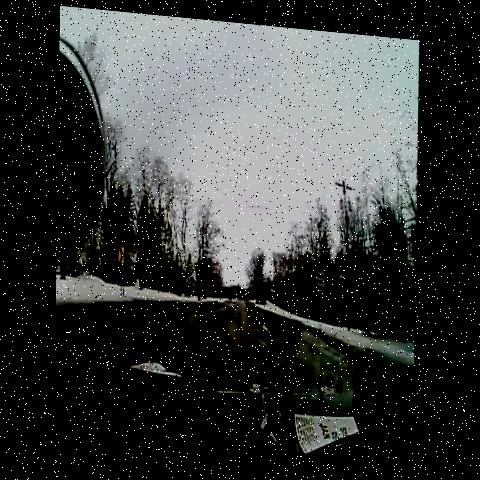pothole: (165, 344, 191, 363), (182, 322, 204, 342)
